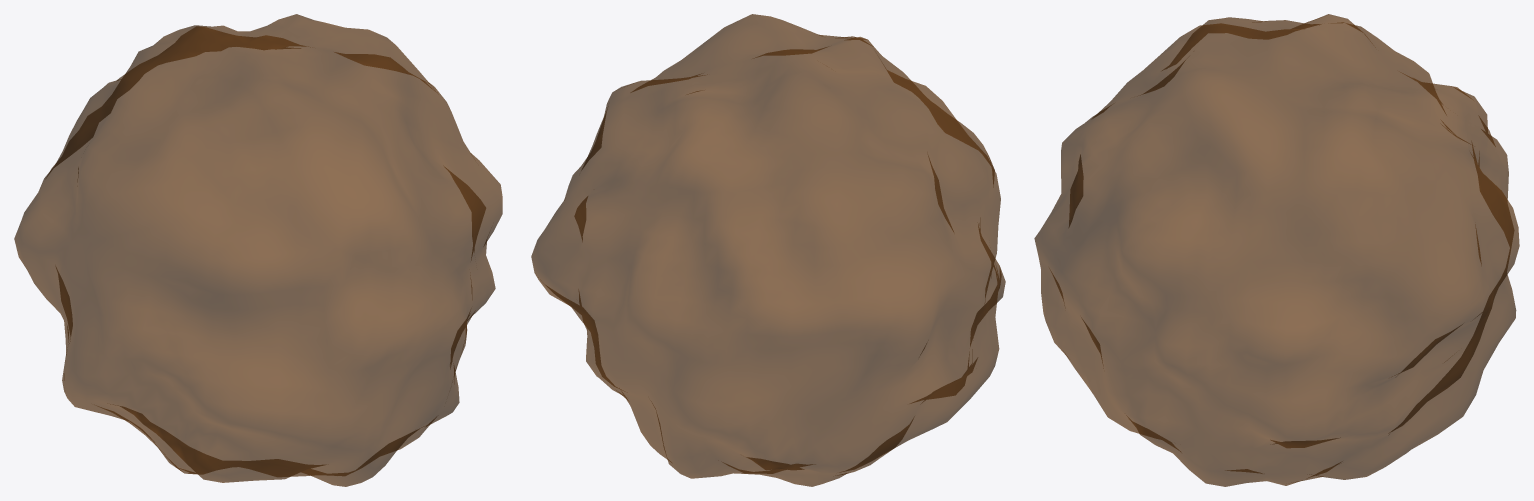
File: spore cloud.fbx
The picture shows the model from 3 angles, left to right: view 1: azimuth 30°, elevation 25°; view 2: azimuth 150°, elevation 25°; view 3: azimuth 270°, elevation 25°; orthographic projection. The views are drawn at different scales.
Parts seen in each view (by area): view 1: Roundcube; view 2: Roundcube; view 3: Roundcube.
Part boxes in pixels (box(x1,y1,x2,y2)): Roundcube: box(14, 14, 502, 486); Roundcube: box(531, 14, 1005, 486); Roundcube: box(1034, 14, 1519, 486).
Bounding box in the file's own units: 207 × 206 × 209.
